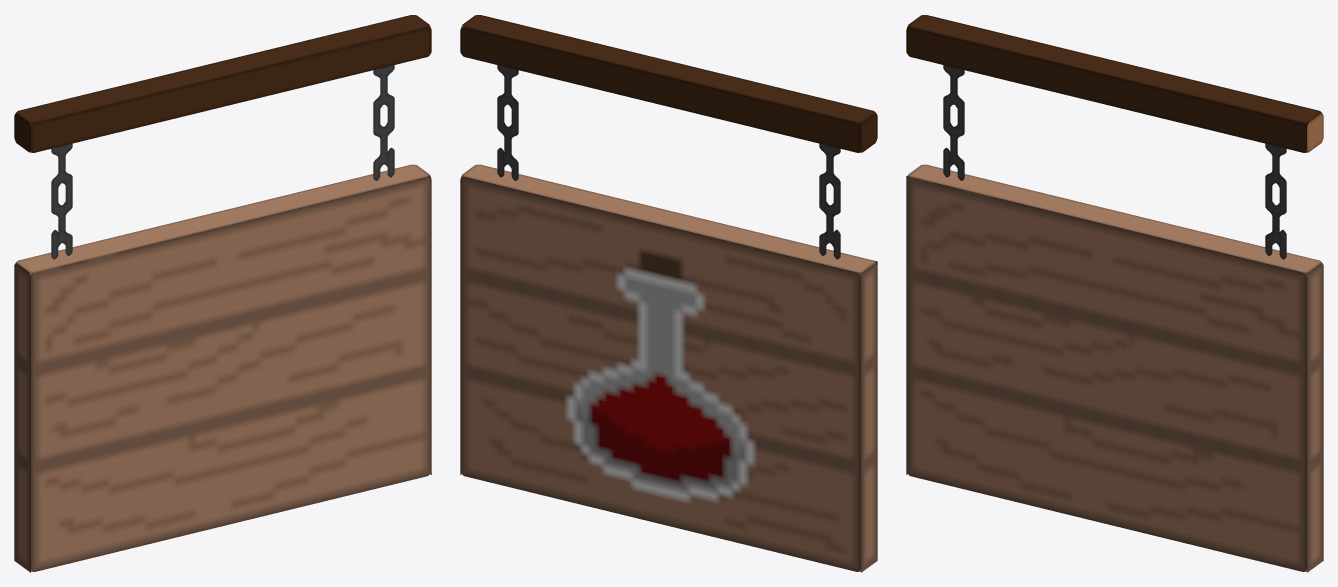
Rendered from potionSign.fbx.
3 views of the same model, side by side, from view 1: azimuth 30°, elevation 25°; view 2: azimuth 150°, elevation 25°; view 3: azimuth 330°, elevation 25° (orthographic).
Visible parts, largest first — view 1: cuboid; view 2: cuboid; view 3: cuboid.
Part boxes in pixels (x1,y1,x2,y2): cuboid: (14,15,431,572); cuboid: (460,15,877,572); cuboid: (906,15,1323,572).
Bounding box in the file's own units: 87.5 × 93.75 × 6.25.
Materials: 1 (1 with a texture image).
